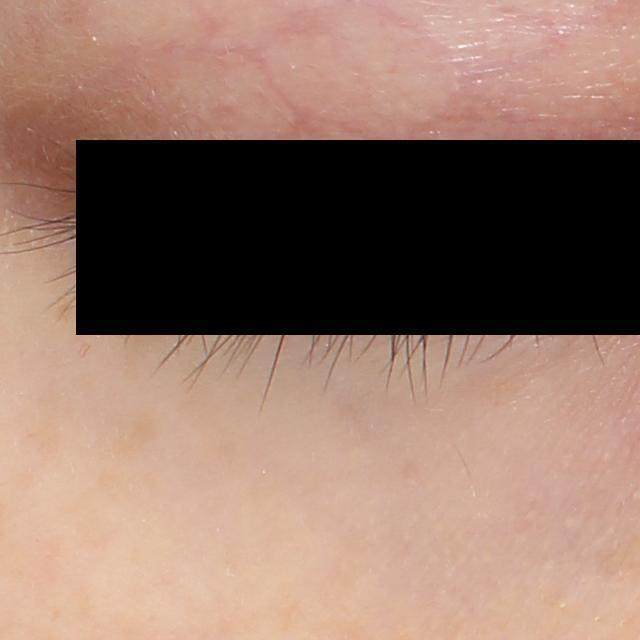melasma: (61, 473, 136, 552), (116, 291, 180, 354), (462, 372, 523, 430), (12, 404, 65, 461), (104, 414, 161, 459), (39, 295, 84, 327)
